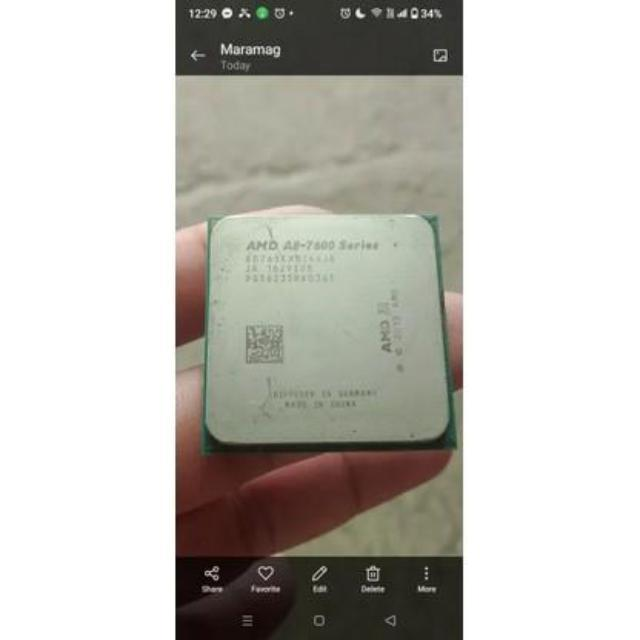CPU: (208, 205, 452, 446)
